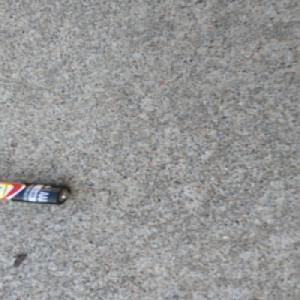Battery: (0, 180, 72, 205)
